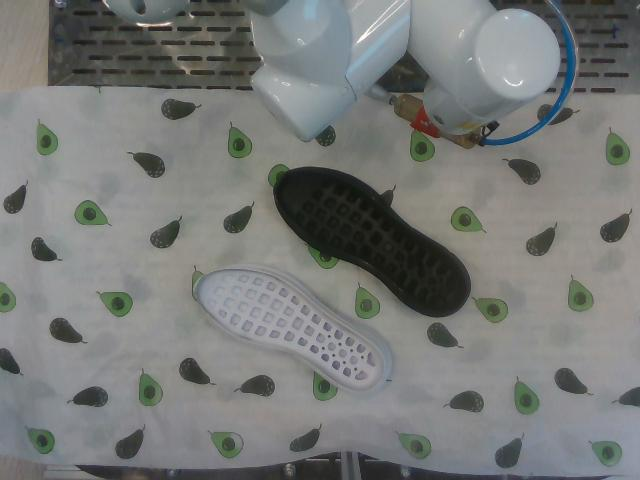shoes: (276, 171, 466, 312), (196, 269, 384, 391)
